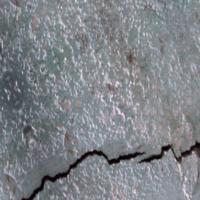crack: (15, 119, 199, 199)
